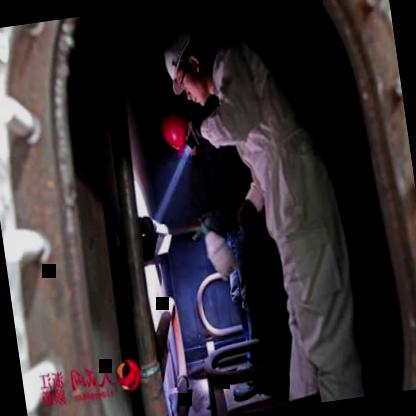helmet: (156, 9, 224, 108), (153, 93, 206, 162)
